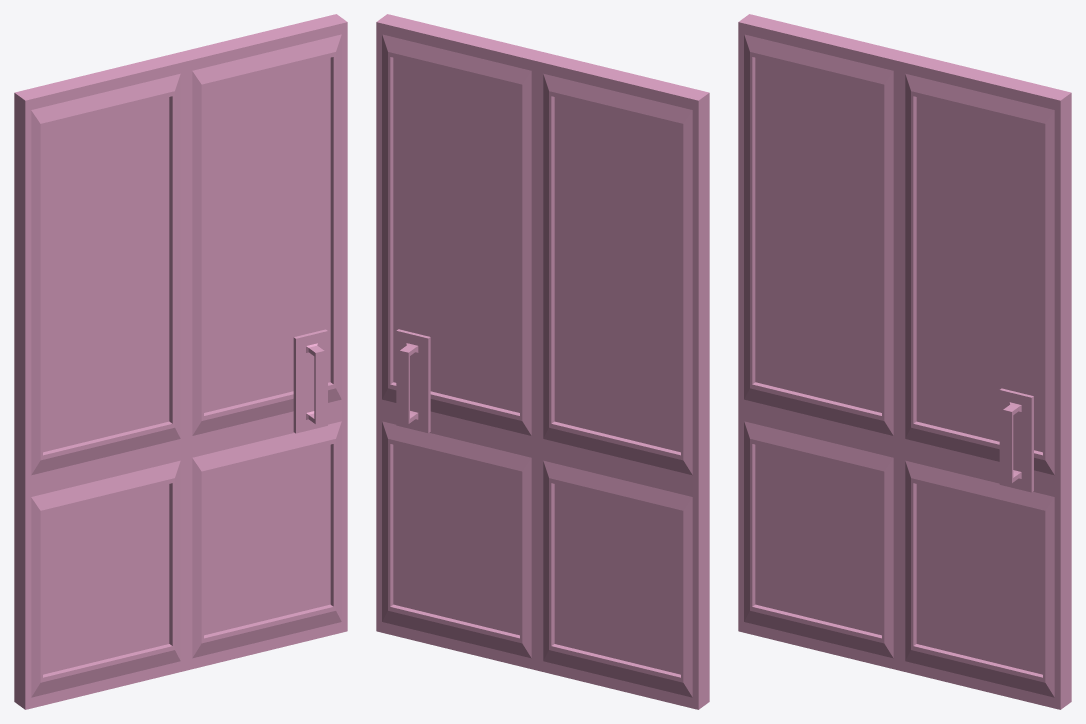
Rendered from PortaLow.fbx.
The picture shows the model from 3 angles, left to right: view 1: azimuth 30°, elevation 25°; view 2: azimuth 150°, elevation 25°; view 3: azimuth 330°, elevation 25°; orthographic projection.
Parts seen in each view (by area): view 1: Cube.056; view 2: Cube.056; view 3: Cube.056.
Boxes of the visible parts, bbox=[...] form: Cube.056: bbox=[14, 14, 347, 709]; Cube.056: bbox=[376, 14, 709, 709]; Cube.056: bbox=[738, 14, 1071, 709].
Bounding box in the file's own units: 161 × 291 × 31.42.
